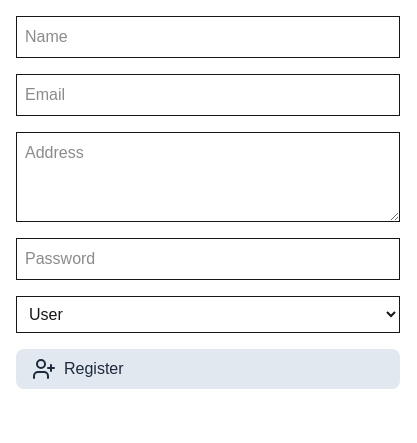
RegisterForm › shows error message when Register throws
Type "taken@example.com" into the field with placeholder "Email".
click(208, 95); type("taken@example.com")  # box top-left (16, 74), bottom-right (400, 116)
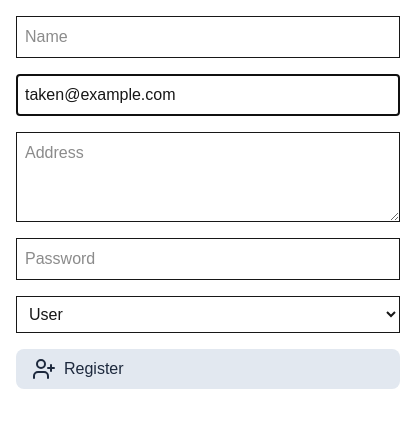
Type "pass" into the password field with placeholder "Password".
click(208, 259); type("pass")  # box top-left (16, 238), bottom-right (400, 280)
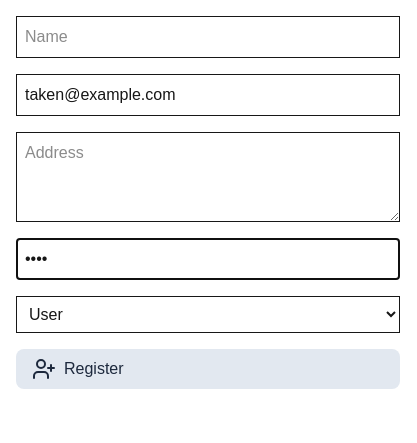
Click the button "Register".
click(94, 368)  # box top-left (16, 349), bottom-right (400, 389)
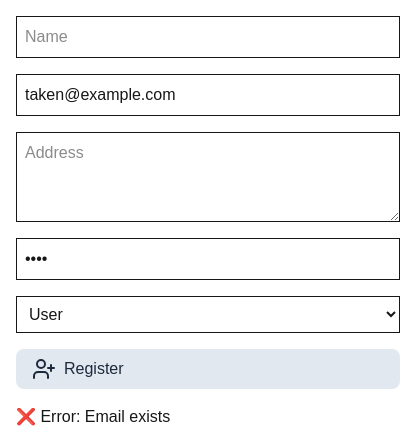
Expected: the text "❌ Error: Email exists" is shown, top-left (16, 408), bottom-right (170, 425)
